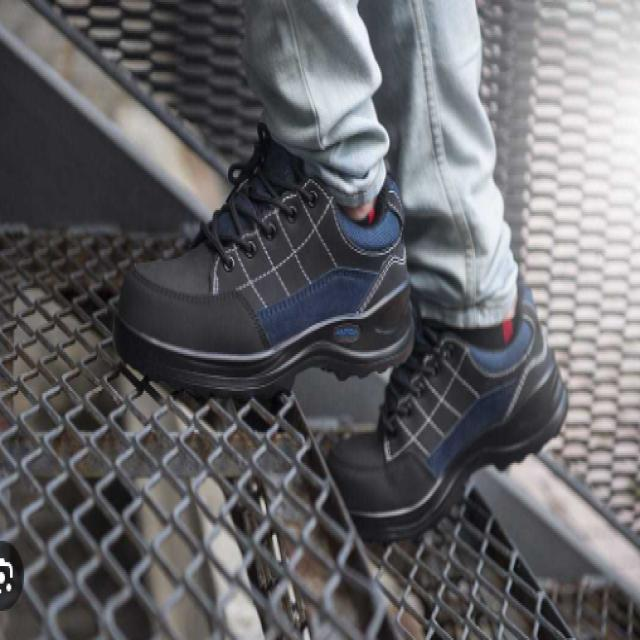shoes: (113, 115, 573, 546)
